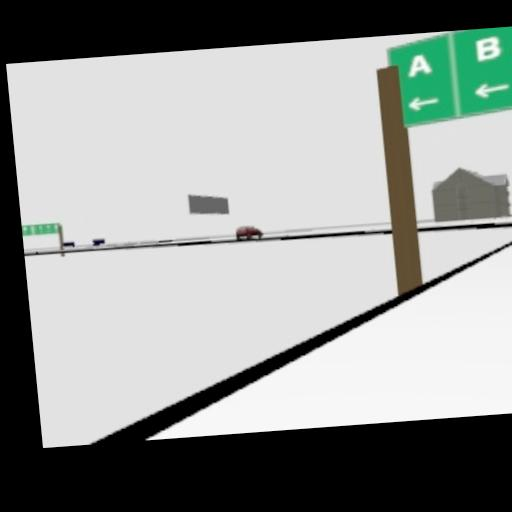A: (403, 53, 436, 81)
B: (473, 33, 503, 63)
Left: (471, 79, 511, 100), (406, 93, 442, 112)
